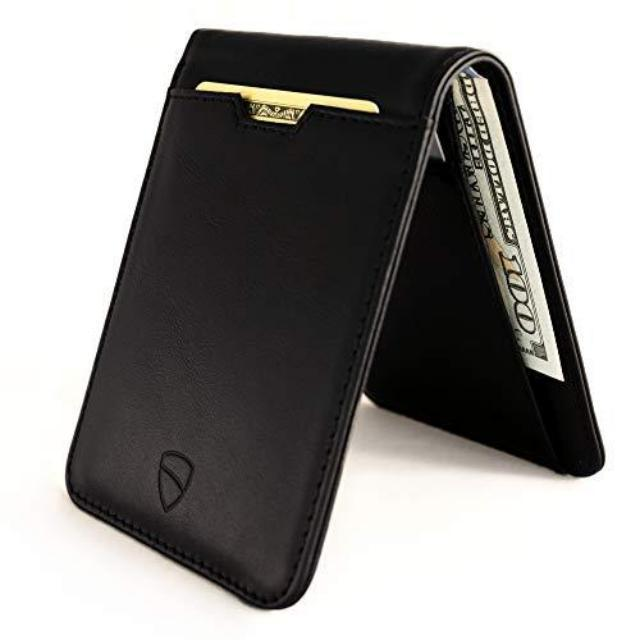wallet: (66, 29, 606, 609)
